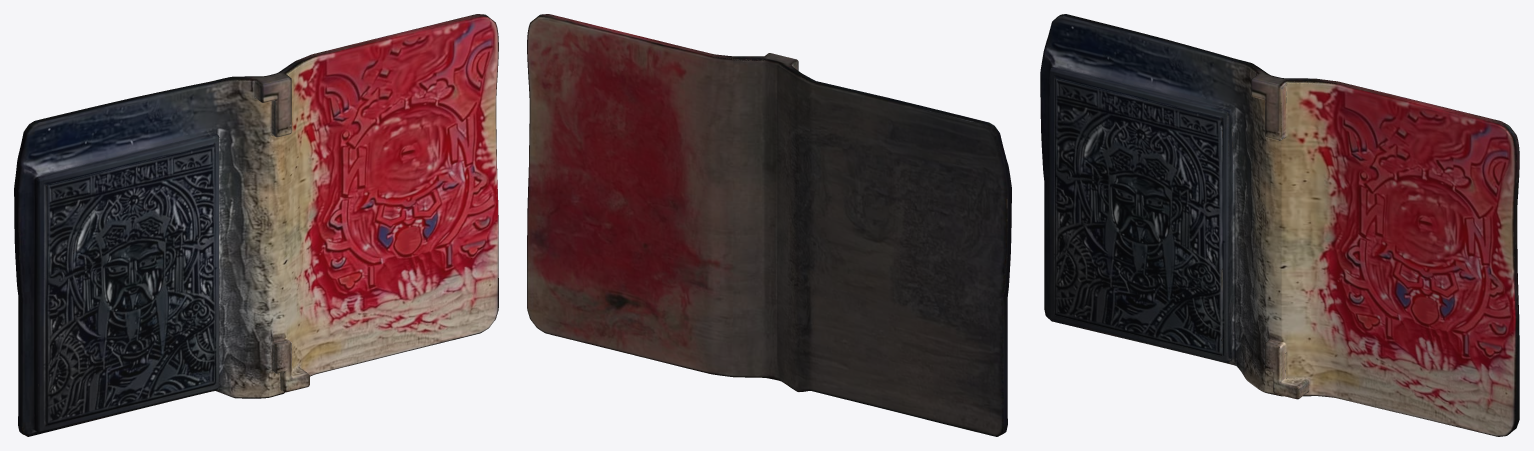
File: ai-generated.glb
3 views of the same model, side by side, from view 1: azimuth 30°, elevation 25°; view 2: azimuth 150°, elevation 25°; view 3: azimuth 330°, elevation 25° (orthographic).
Visible parts, largest first — view 1: world; view 2: world; view 3: world.
Boxes of the visible parts, x1,y1,x2,y2 form: world: (14, 14, 498, 436); world: (527, 14, 1011, 436); world: (1040, 14, 1519, 436).
Size of the model in its own units: 2 by 1.26 by 0.1547.
Materials: 1 (1 with a texture image).
